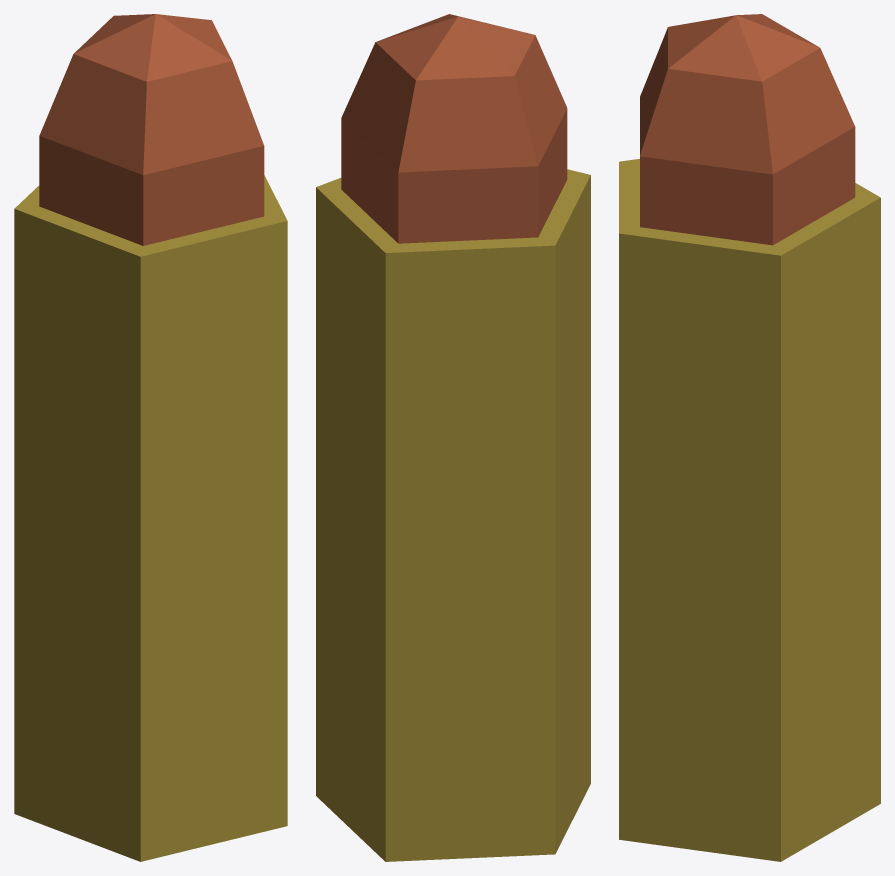
Rendered from LPWarPack_MagnumRound.fbx.
3 views of the same model, side by side, from view 1: azimuth 30°, elevation 25°; view 2: azimuth 150°, elevation 25°; view 3: azimuth 270°, elevation 25° (orthographic).
Visible parts, largest first — view 1: MagnumRound; view 2: MagnumRound; view 3: MagnumRound.
Part boxes in pixels (x1,y1,x2,y2): MagnumRound: (14, 14, 287, 861); MagnumRound: (316, 14, 590, 861); MagnumRound: (619, 14, 880, 861).
Bounding box in the file's own units: 1.36 × 4.29 × 1.29.
